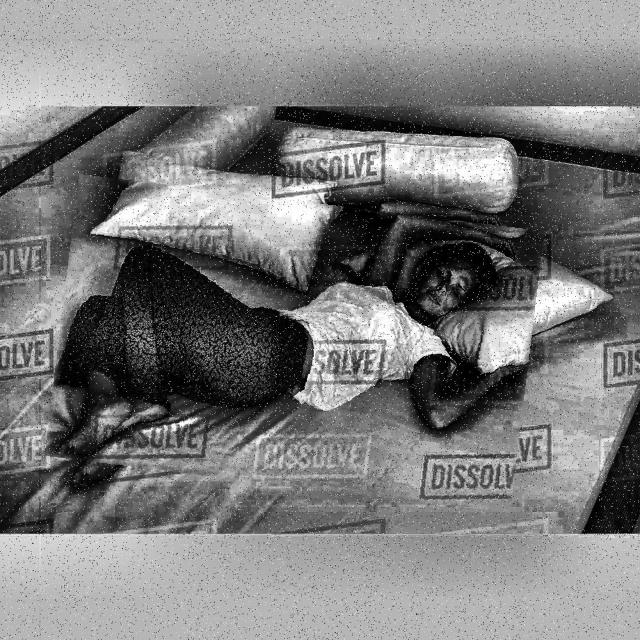Supine: (54, 215, 528, 460)
